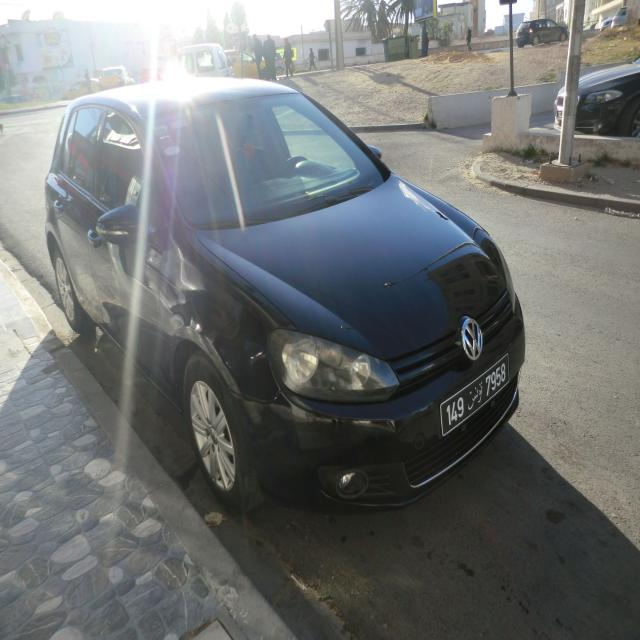LP: (440, 353, 518, 438)
